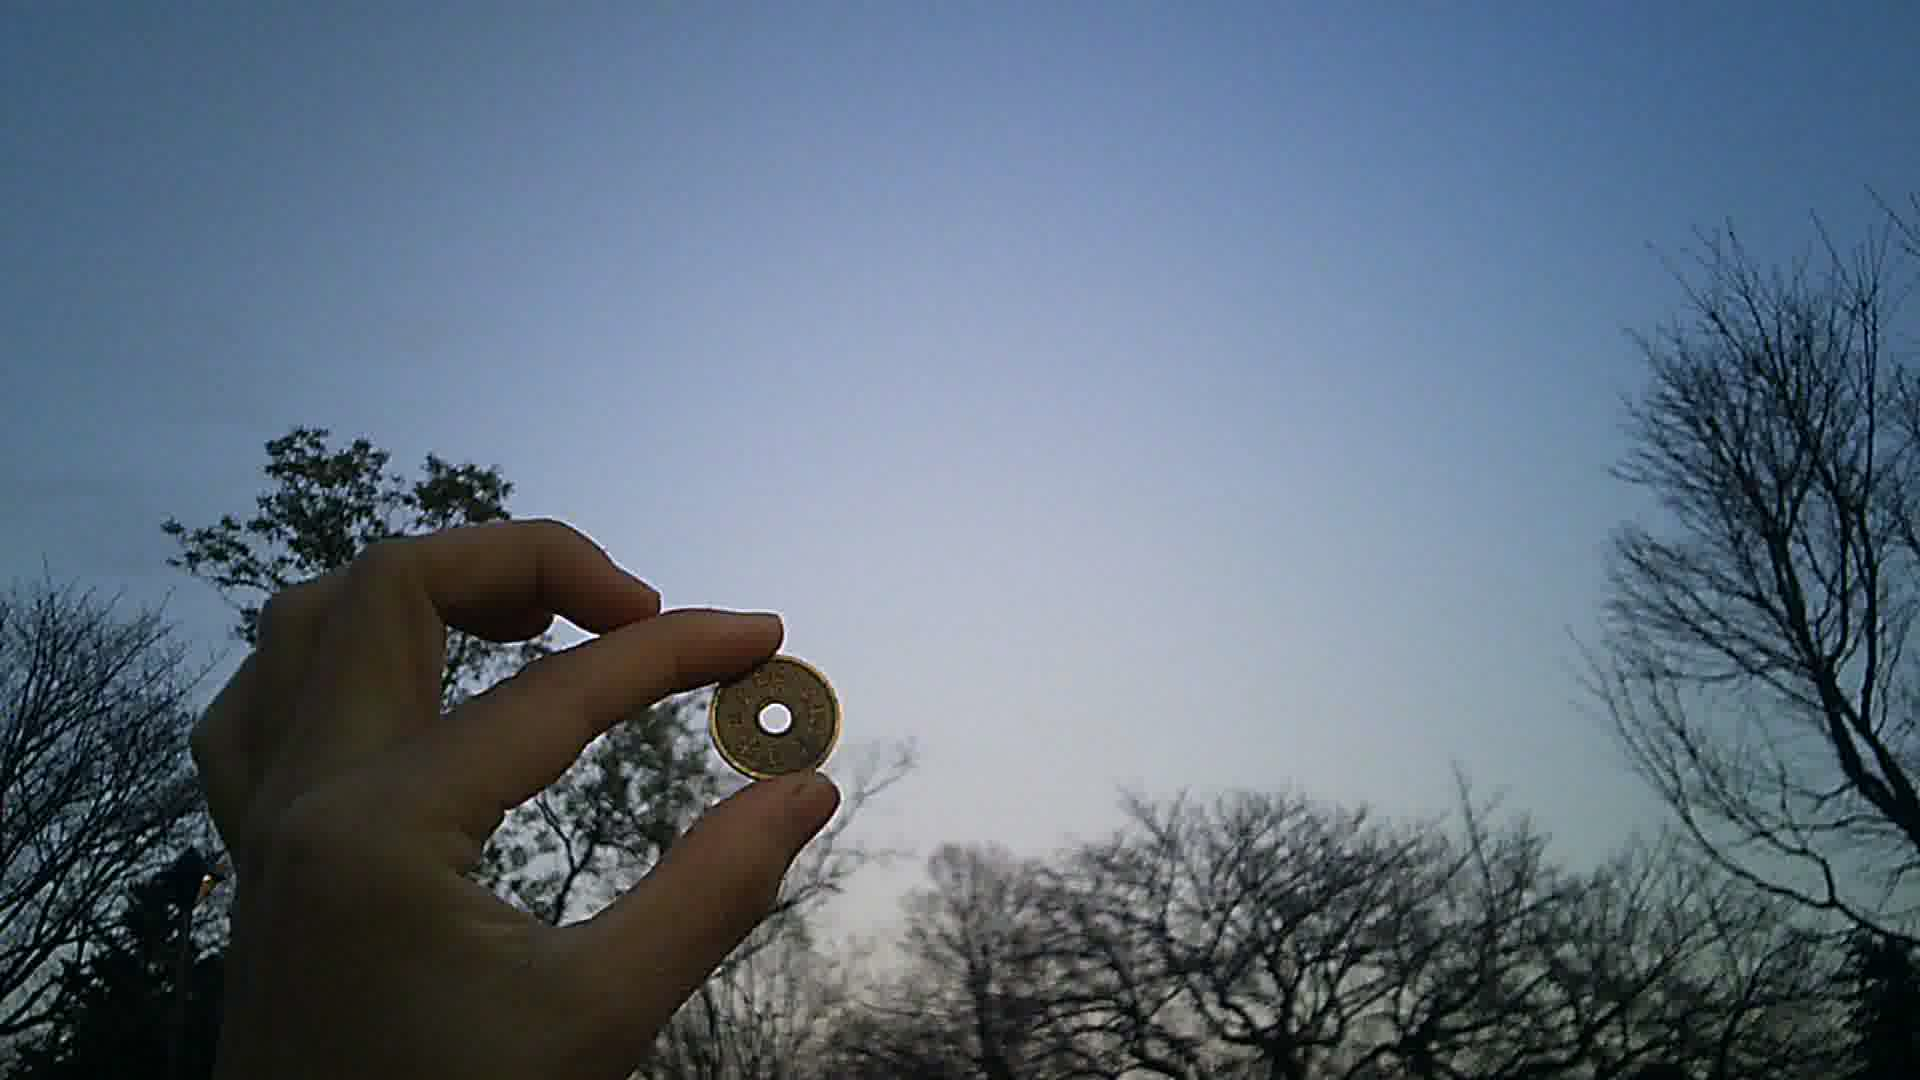5 Yen: (707, 659, 851, 787)
